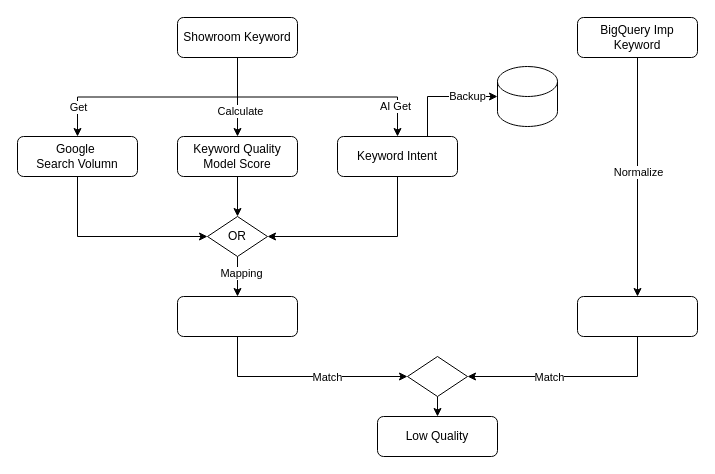
This 715x474 diagram has some shape labels left out. Here are the shapes that lost their labels. From the top down, the box of each, then its label:
(496, 66, 558, 126): v-seo DB
(176, 296, 298, 336): Showroom Normalize Keyword
(576, 296, 698, 336): BigQuery Imp Normalize Keyword
(406, 356, 468, 396): AND
